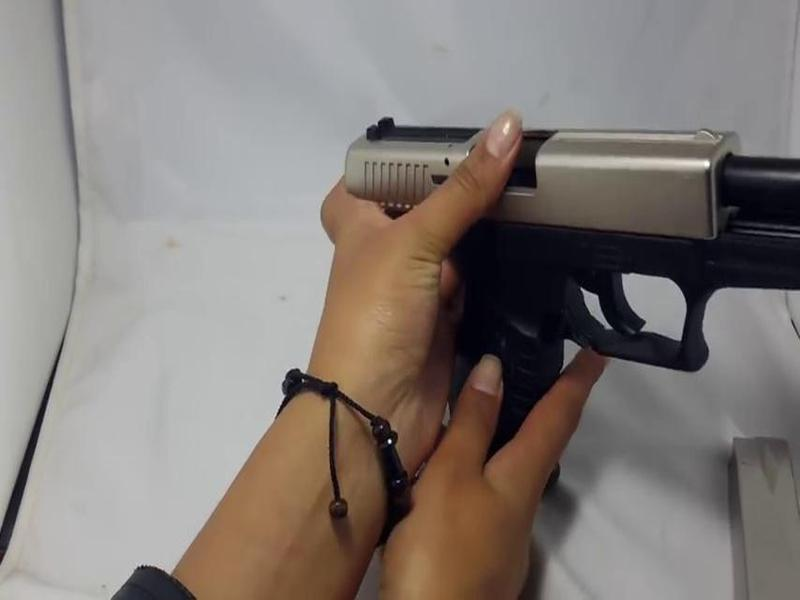Pistola: (317, 106, 800, 514)
